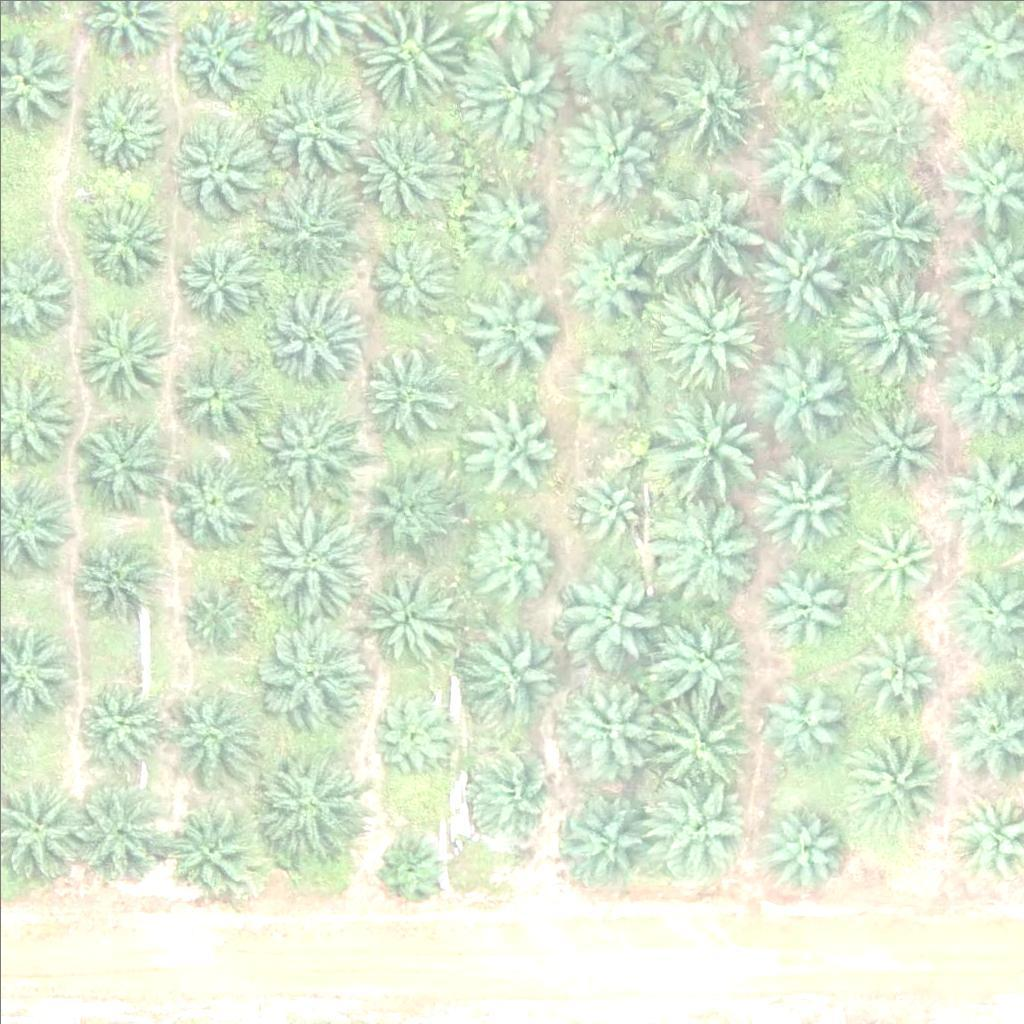Kelapa_Sawit: (350, 115, 463, 229), (258, 496, 371, 610), (256, 67, 369, 181), (838, 276, 951, 389), (639, 767, 752, 880), (650, 390, 763, 503), (653, 277, 766, 390), (258, 614, 371, 727), (253, 174, 366, 287), (647, 166, 759, 280), (657, 493, 769, 606), (256, 747, 368, 860), (841, 78, 941, 179), (845, 728, 945, 829), (839, 175, 939, 276), (754, 448, 854, 549), (749, 339, 849, 440), (745, 222, 845, 323), (752, 110, 852, 211), (648, 681, 748, 782), (648, 611, 748, 712), (661, 46, 761, 147), (566, 98, 666, 199), (560, 676, 660, 777), (559, 784, 659, 885), (473, 47, 573, 148), (360, 568, 460, 669), (262, 389, 362, 490), (260, 280, 360, 381), (162, 345, 262, 446), (155, 794, 255, 895), (73, 300, 173, 401), (557, 567, 657, 667), (462, 619, 562, 719), (459, 402, 559, 502), (461, 286, 561, 386), (566, 1, 666, 101), (363, 230, 463, 330), (356, 343, 456, 443), (357, 451, 457, 551), (162, 119, 262, 219), (163, 451, 263, 551), (67, 777, 167, 877), (62, 524, 162, 624), (69, 408, 169, 508), (69, 187, 169, 287), (853, 509, 941, 598), (367, 687, 455, 776), (849, 616, 937, 704), (760, 672, 848, 760), (566, 335, 654, 423), (562, 459, 650, 547), (473, 514, 561, 602), (78, 89, 166, 177), (763, 798, 850, 887), (569, 229, 656, 318), (71, 680, 158, 769), (856, 394, 943, 482), (762, 556, 849, 644), (467, 741, 554, 829), (466, 181, 553, 269), (179, 233, 266, 321), (168, 682, 255, 770), (179, 572, 254, 648), (373, 827, 448, 902)
